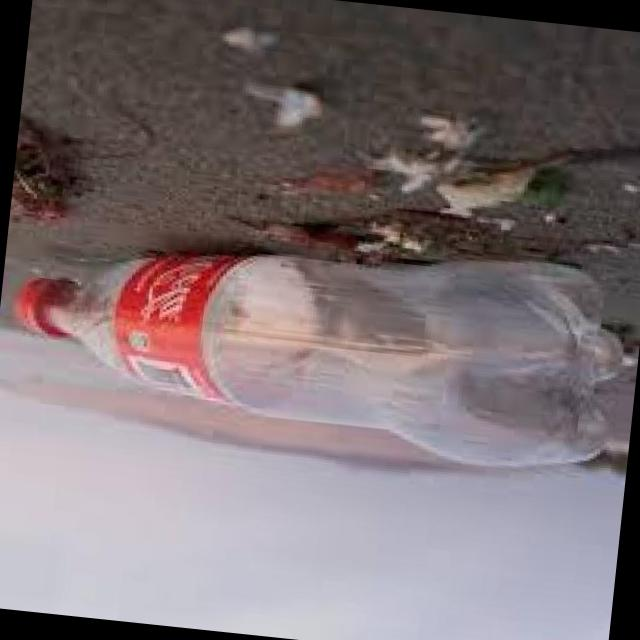plastic_bottle: (1, 207, 634, 478)
